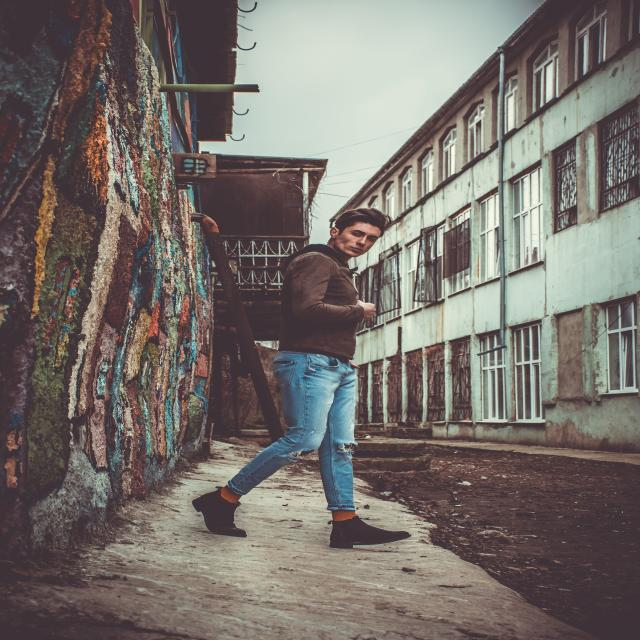adult: (191, 206, 408, 554)
